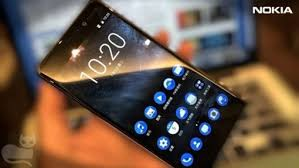nokia: (33, 1, 241, 168)
